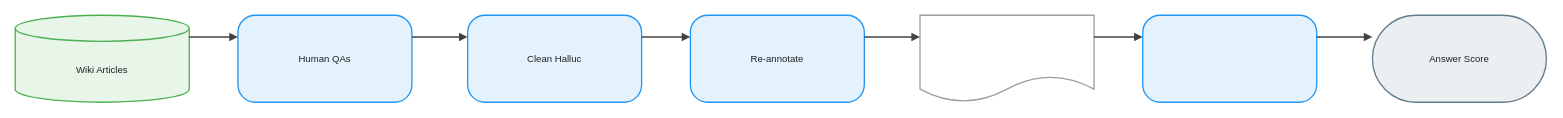
This 1563x118 diagram has some shape labels left out. Each missing label, with the centre of its shape:
"RAG System" goes at (1229,58).
"Reason Labels" goes at (1006,58).
